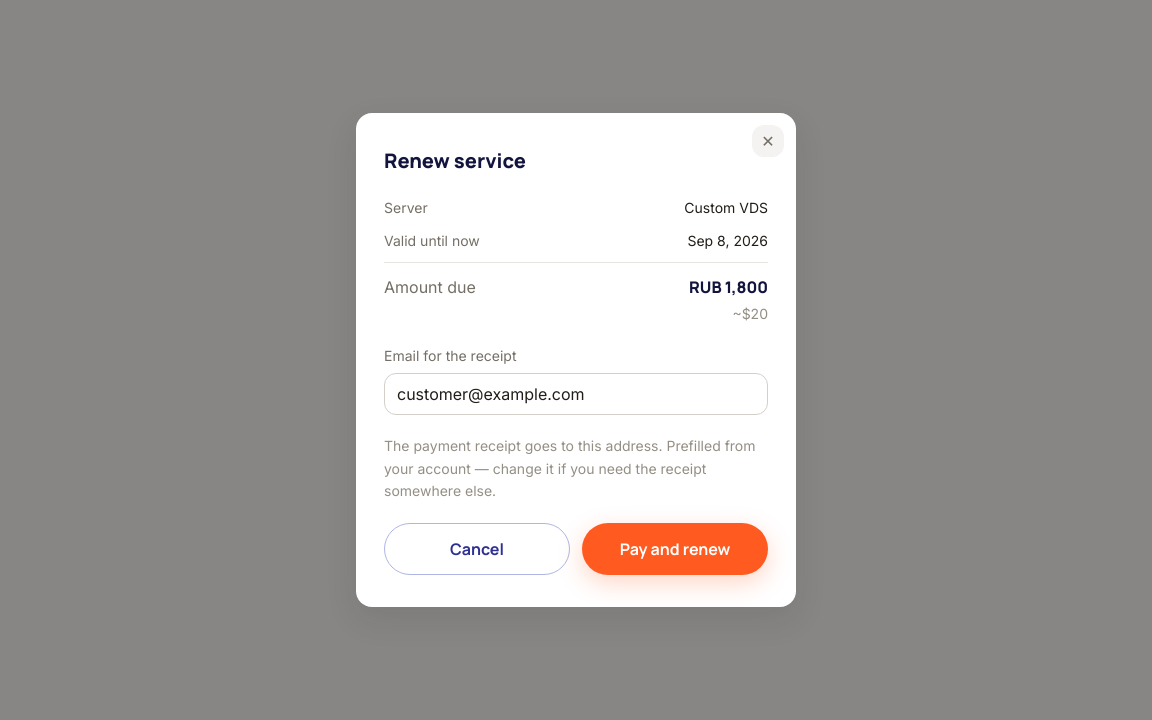
Scenario: RenewalConfirmModal › cannot be confirmed with an unusable email
The width and height of the screenshot is (1152, 720).
Expected: the text "RUB 1,800" is shown, [689,275,768,301]
Replace the text in the field showing "customer@example.com" with "not-an-address" at (576, 394), box [384,374,768,416]
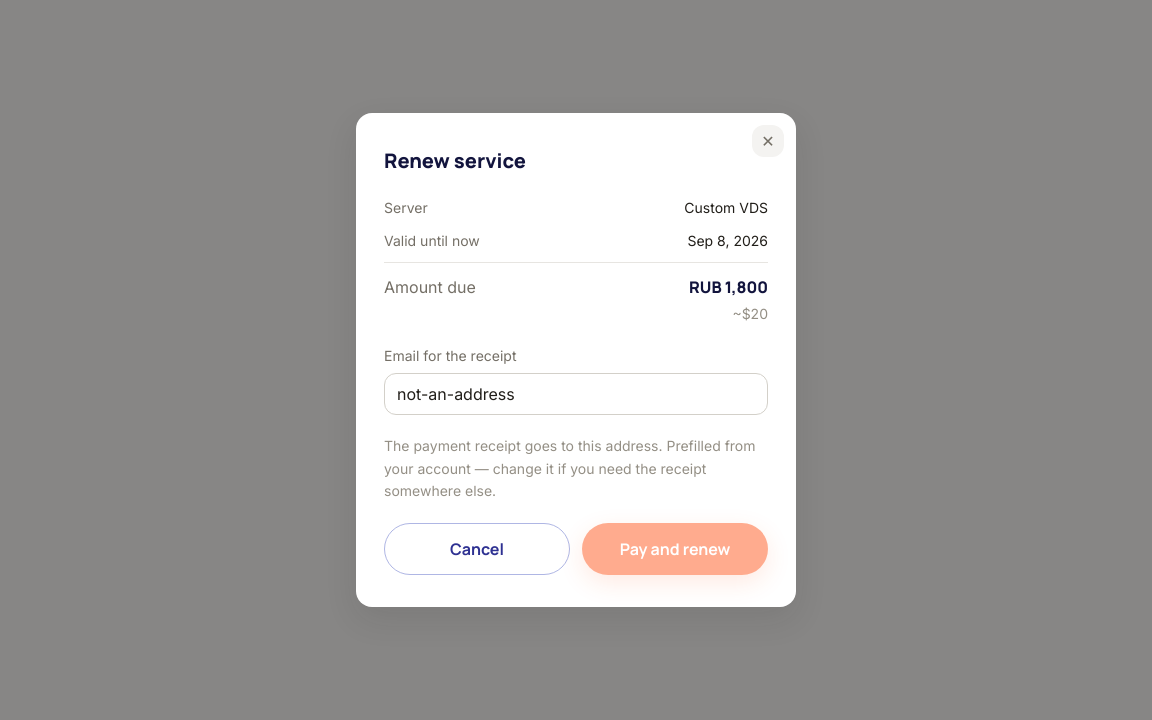
Now the button "Pay and renew" is disabled, box [582,523,768,575]
